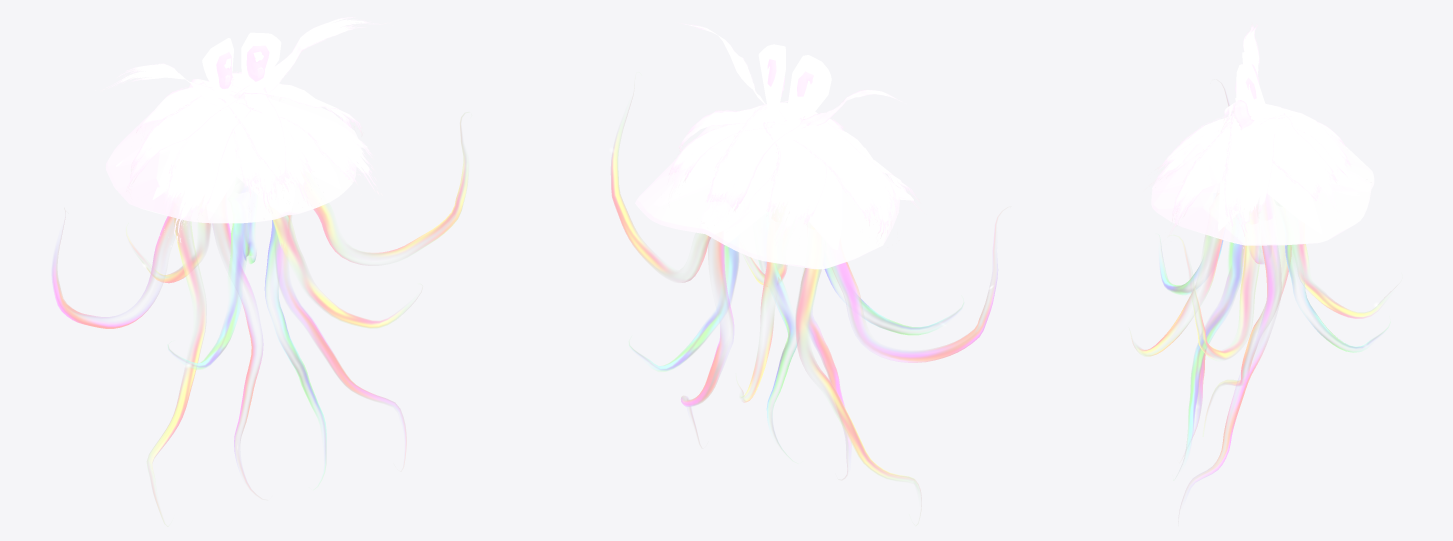
3 views of the same model, side by side, from view 1: azimuth 30°, elevation 25°; view 2: azimuth 150°, elevation 25°; view 3: azimuth 270°, elevation 25° (orthographic). The views are drawn at different scales.
Parts seen in each view (by area): view 1: Untitled_0_Hypercolor_geo_dce872c27b494684b59bc45387949c5c_H, Untitled_0_Comet_geo_1caa6d7df0153f543a4b8b5354d39f81_Comet_, Untitled_0_DiamondHull_geo_c8313697256347fc832e290f4c04b901_, Untitled_0_MatteHull_geo_79348357432d47468e290e25c112e3aa_Ma, Untitled_0_UnlitHull_geo_a8fea537da7c4d4b817f24f074725d6d_Un, Untitled_0_Icing_geo_2f212815f4d3c1a4681afeeaf9c6dc37_Icing_; view 2: Untitled_0_Comet_geo_1caa6d7df0153f543a4b8b5354d39f81_Comet_, Untitled_0_Hypercolor_geo_dce872c27b494684b59bc45387949c5c_H, Untitled_0_DiamondHull_geo_c8313697256347fc832e290f4c04b901_, Untitled_0_MatteHull_geo_79348357432d47468e290e25c112e3aa_Ma, Untitled_0_UnlitHull_geo_a8fea537da7c4d4b817f24f074725d6d_Un; view 3: Untitled_0_Hypercolor_geo_dce872c27b494684b59bc45387949c5c_H, Untitled_0_Comet_geo_1caa6d7df0153f543a4b8b5354d39f81_Comet_, Untitled_0_DiamondHull_geo_c8313697256347fc832e290f4c04b901_, Untitled_0_MatteHull_geo_79348357432d47468e290e25c112e3aa_Ma, Untitled_0_UnlitHull_geo_a8fea537da7c4d4b817f24f074725d6d_Un.
Part boxes in pixels (box(x1,y1,x2,y2)): Untitled_0_Hypercolor_geo_dce872c27b494684b59bc45387949c5c_H: box(95, 16, 392, 246); Untitled_0_Comet_geo_1caa6d7df0153f543a4b8b5354d39f81_Comet_: box(51, 112, 468, 526); Untitled_0_DiamondHull_geo_c8313697256347fc832e290f4c04b901_: box(105, 94, 358, 223); Untitled_0_MatteHull_geo_79348357432d47468e290e25c112e3aa_Ma: box(116, 99, 367, 219); Untitled_0_UnlitHull_geo_a8fea537da7c4d4b817f24f074725d6d_Un: box(202, 32, 281, 96); Untitled_0_Icing_geo_2f212815f4d3c1a4681afeeaf9c6dc37_Icing_: box(216, 45, 269, 88); Untitled_0_Comet_geo_1caa6d7df0153f543a4b8b5354d39f81_Comet_: box(610, 88, 1004, 525); Untitled_0_Hypercolor_geo_dce872c27b494684b59bc45387949c5c_H: box(668, 23, 934, 247); Untitled_0_DiamondHull_geo_c8313697256347fc832e290f4c04b901_: box(635, 124, 900, 269); Untitled_0_MatteHull_geo_79348357432d47468e290e25c112e3aa_Ma: box(654, 132, 913, 249); Untitled_0_UnlitHull_geo_a8fea537da7c4d4b817f24f074725d6d_Un: box(758, 44, 831, 122); Untitled_0_Hypercolor_geo_dce872c27b494684b59bc45387949c5c_H: box(1142, 18, 1371, 248); Untitled_0_Comet_geo_1caa6d7df0153f543a4b8b5354d39f81_Comet_: box(1130, 82, 1396, 521); Untitled_0_DiamondHull_geo_c8313697256347fc832e290f4c04b901_: box(1151, 135, 1374, 245); Untitled_0_MatteHull_geo_79348357432d47468e290e25c112e3aa_Ma: box(1156, 156, 1321, 233); Untitled_0_UnlitHull_geo_a8fea537da7c4d4b817f24f074725d6d_Un: box(1235, 52, 1266, 124).
Bounding box in the file's own units: 0.5262 × 0.4808 × 0.3751.
Materials: 7 (4 with a texture image).
